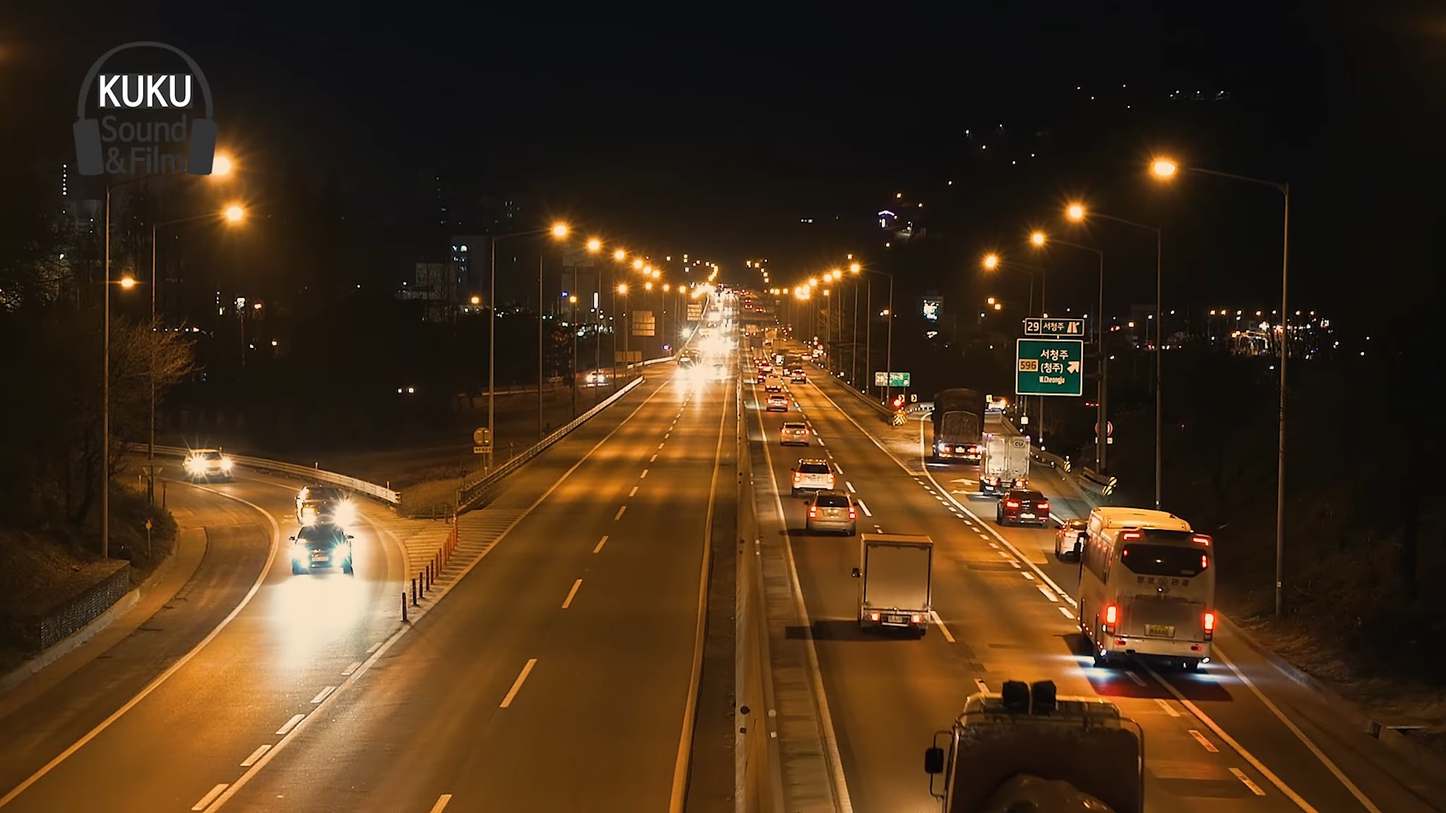car: (292, 521, 353, 576), (293, 489, 363, 526), (802, 489, 860, 533), (1003, 491, 1051, 524), (791, 459, 836, 494)
truck: (1074, 500, 1226, 689), (849, 526, 943, 641), (975, 420, 1037, 500), (931, 390, 991, 467)
